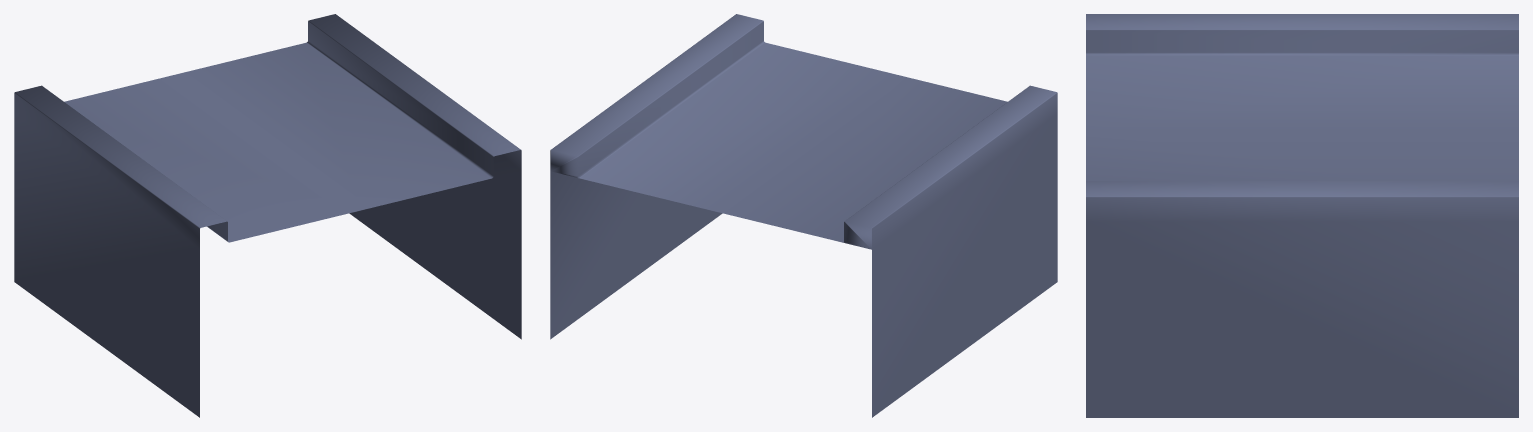
Rendered from conveyor_normal (1).fbx.
3 views of the same model, side by side, from view 1: azimuth 30°, elevation 25°; view 2: azimuth 150°, elevation 25°; view 3: azimuth 270°, elevation 25° (orthographic). The views are drawn at different scales.
Parts seen in each view (by area): view 1: DUZ; view 2: DUZ; view 3: DUZ.
Part boxes in pixels (x1,y1,x2,y2): DUZ: (14,14,521,417); DUZ: (550,14,1057,417); DUZ: (1086,14,1518,417).
Bounding box in the file's own units: 100 × 56.43 × 100.
